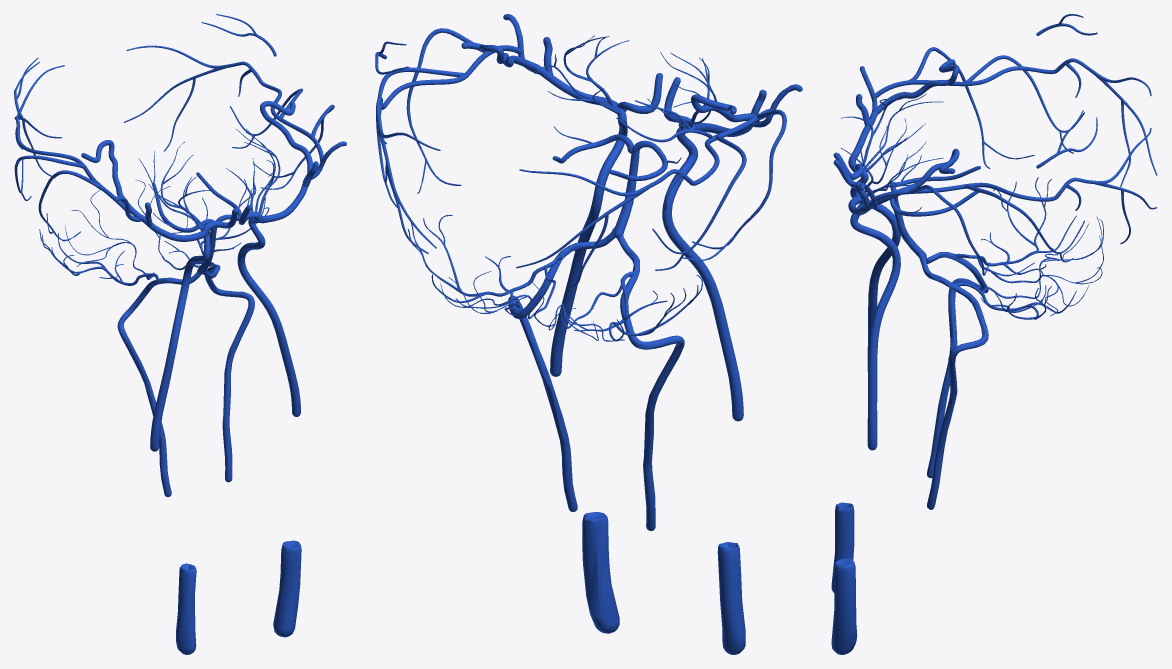
The model's file is vessels.glb.
3 views of the same model, side by side, from view 1: azimuth 30°, elevation 25°; view 2: azimuth 150°, elevation 25°; view 3: azimuth 270°, elevation 25° (orthographic). The views are drawn at different scales.
Visible parts, largest first — view 1: grp1; view 2: grp1; view 3: grp1.
Boxes of the visible parts, <box> form: grp1: <box>14,14,346,654</box>; grp1: <box>375,14,802,654</box>; grp1: <box>831,14,1157,654</box>.
Size of the model in its own units: 0.1419 by 0.253 by 0.1319.
